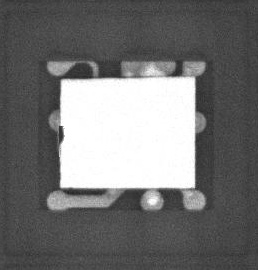DIE_BROKEN: (58, 126, 66, 145)
